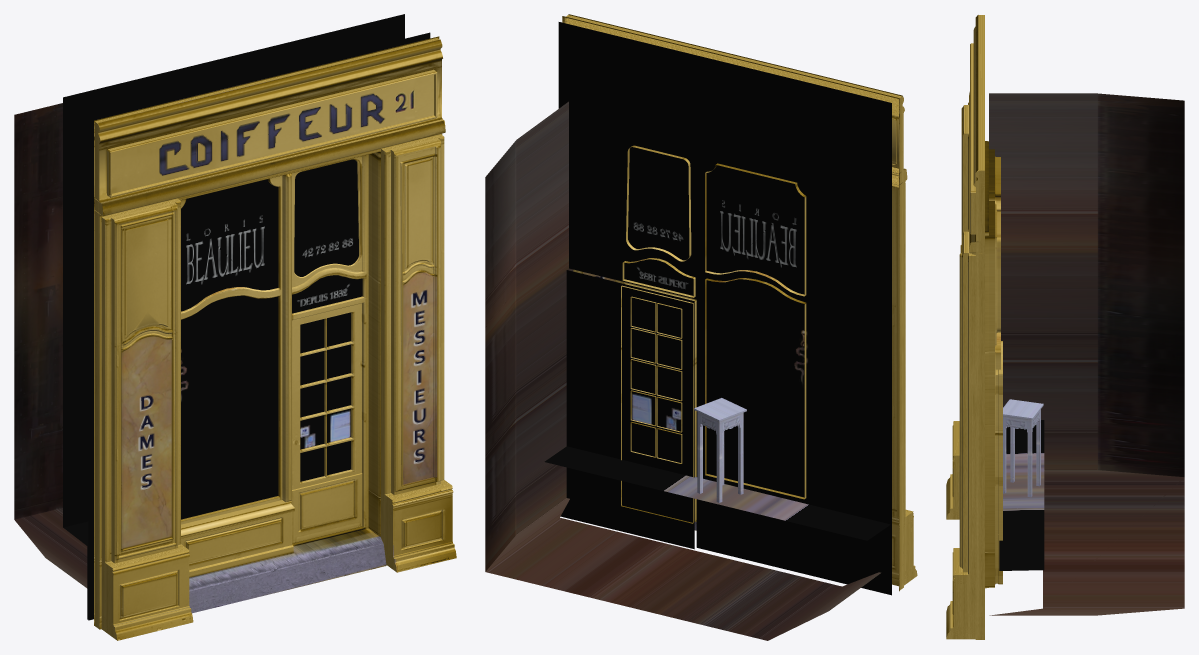
3 views of the same model, side by side, from view 1: azimuth 30°, elevation 25°; view 2: azimuth 150°, elevation 25°; view 3: azimuth 270°, elevation 25° (orthographic). The views are drawn at different scales.
Visible parts, largest first — view 1: SH01_1.005; view 2: SH01_1.005; view 3: SH01_1.005.
Part boxes in pixels (x1,y1,x2,y2): SH01_1.005: (14,14,456,640); SH01_1.005: (485,14,917,640); SH01_1.005: (946,15,1184,639).
Bounding box in the file's own units: 372 × 520 × 239.
Materials: 6 (6 with a texture image).
